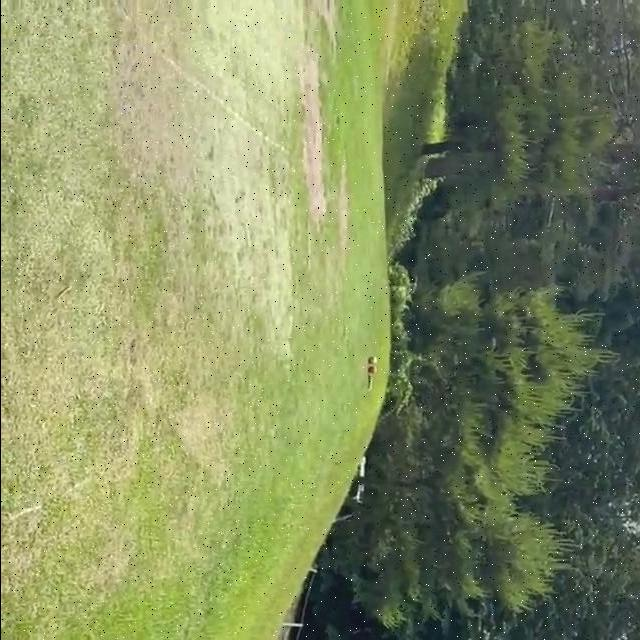GolfBall: (368, 366, 376, 374), (369, 357, 377, 364)
